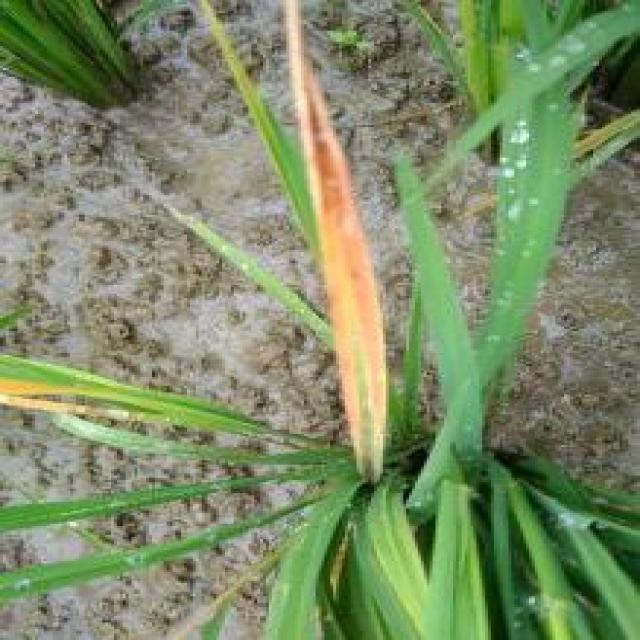Tungro: (262, 3, 420, 471)
